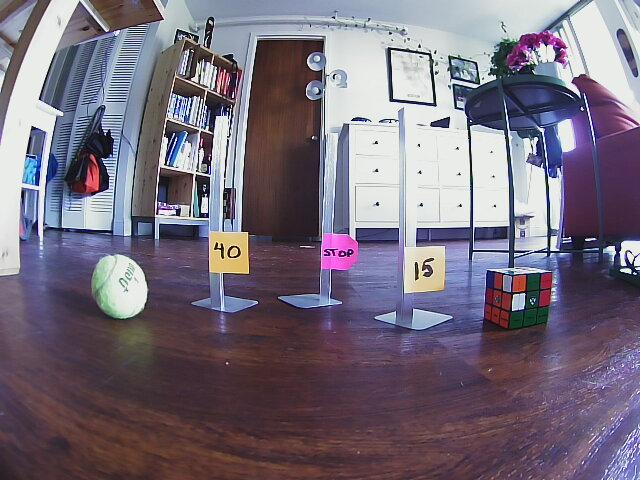15: (398, 244, 449, 296)
40: (206, 228, 253, 277)
ball: (87, 249, 154, 321)
cube: (483, 267, 556, 333)
stop: (317, 230, 362, 274)
